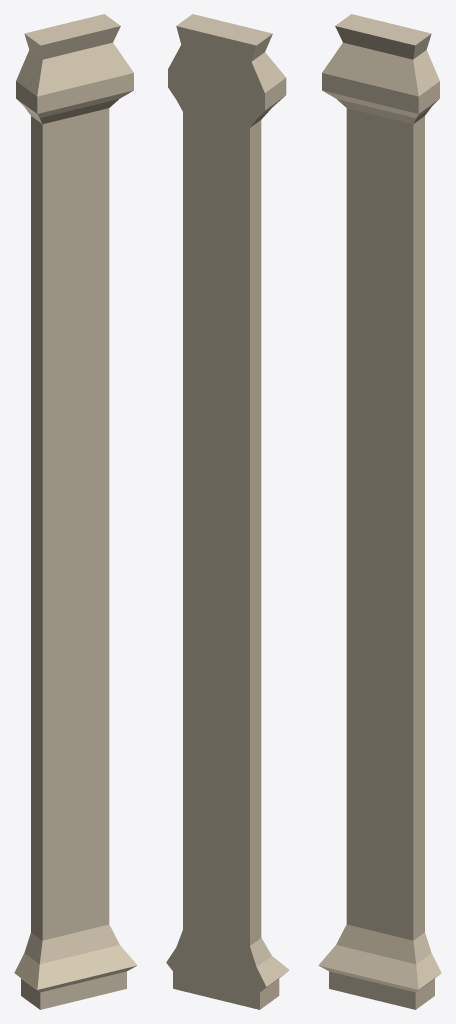
The model's file is T04_Pilaster_Trim.glb.
3 renders of one model, left to right at view 1: azimuth 30°, elevation 25°; view 2: azimuth 150°, elevation 25°; view 3: azimuth 330°, elevation 25°, orthographic.
Visible parts, largest first — view 1: T04_Pilaster_Trim; view 2: T04_Pilaster_Trim; view 3: T04_Pilaster_Trim.
Part boxes in pixels (x1,y1,x2,y2): T04_Pilaster_Trim: (14,14,137,1009); T04_Pilaster_Trim: (166,14,289,1009); T04_Pilaster_Trim: (318,14,441,1009).
Size of the model in its own units: 0.6 by 5.5 by 0.24.
